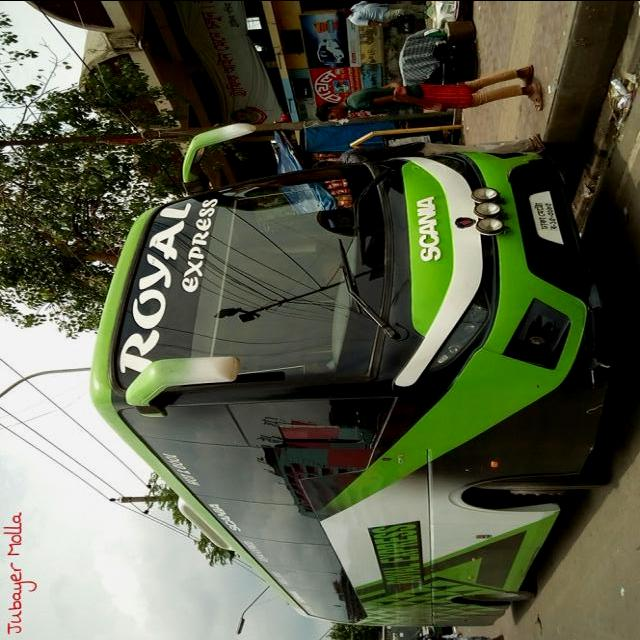bus: (91, 120, 616, 629)
